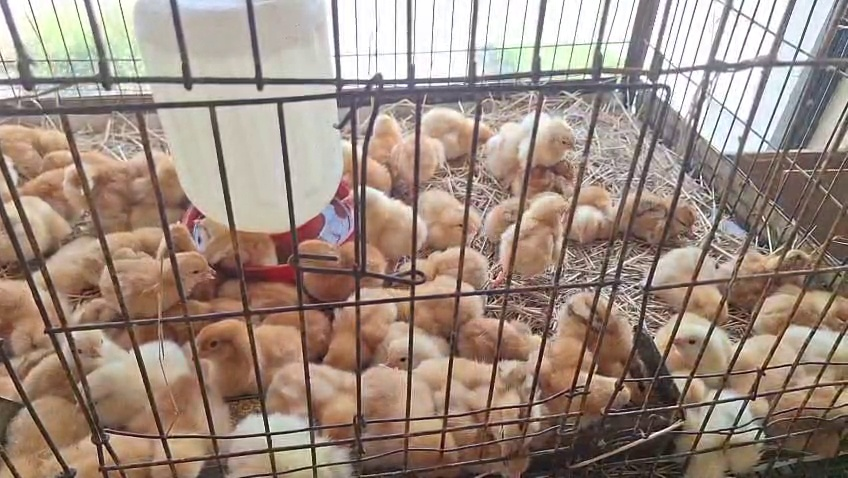Pollo: (359, 363, 469, 474), (90, 247, 223, 325), (189, 315, 315, 395), (77, 335, 189, 424), (262, 359, 368, 445), (527, 335, 633, 420), (220, 411, 354, 477), (151, 382, 238, 478), (673, 385, 765, 475), (475, 353, 550, 463), (341, 180, 435, 266), (283, 236, 398, 303), (716, 232, 821, 305), (552, 286, 639, 374), (739, 320, 804, 436), (316, 286, 405, 369), (497, 187, 576, 280), (652, 308, 742, 387), (647, 245, 740, 321), (25, 322, 123, 394), (63, 150, 157, 221), (7, 398, 89, 478), (187, 209, 285, 273), (389, 271, 513, 321), (752, 280, 847, 344), (46, 426, 161, 477), (776, 370, 845, 454), (125, 147, 198, 225), (0, 272, 72, 349), (619, 181, 699, 248), (772, 320, 848, 390), (326, 136, 407, 201), (414, 100, 506, 157), (410, 185, 488, 251), (30, 225, 91, 308), (1, 195, 74, 259), (216, 275, 315, 319), (368, 324, 455, 374), (462, 308, 527, 370), (17, 149, 86, 207), (0, 122, 79, 172), (508, 149, 585, 199), (388, 116, 445, 181), (570, 176, 619, 249), (482, 112, 535, 177), (520, 110, 579, 167), (95, 216, 174, 255), (414, 244, 492, 280), (481, 193, 533, 245), (152, 215, 206, 259), (368, 109, 407, 164)
